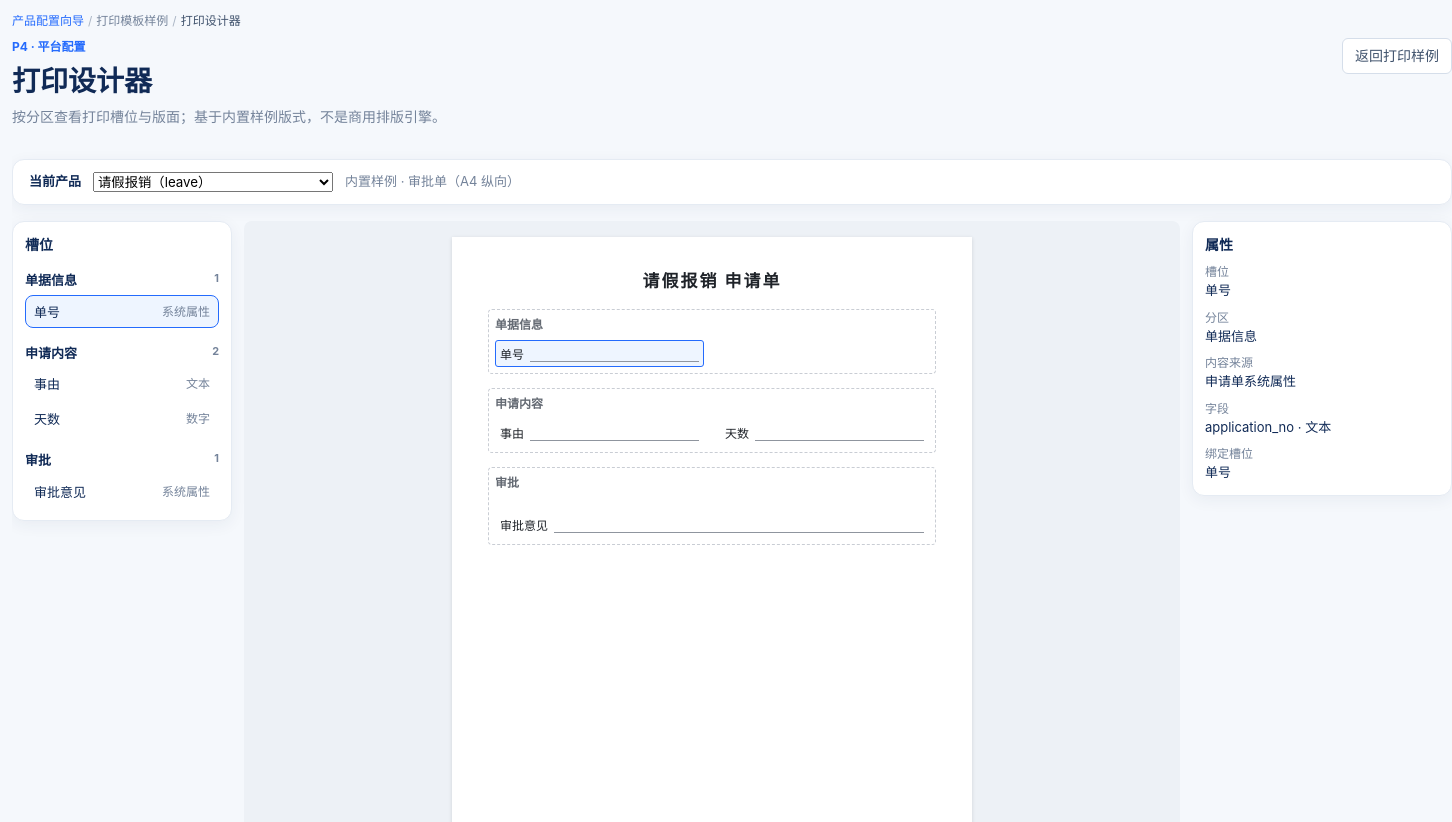
Test: print designer shell (CF-RD1) › shows the slot list, board zones and properties for the selected slot
Check: the number of buttons with class "slot-item" is 4, box [25,294,219,328]; [25,367,219,400]; [25,402,219,435]; [25,474,219,508]
Check: the element with test id "designer-props-detail" shows "单号", box [1205,282,1231,298]
Click the button with test id "designer-board-form.days" at [824, 432], box [720,418,929,446]
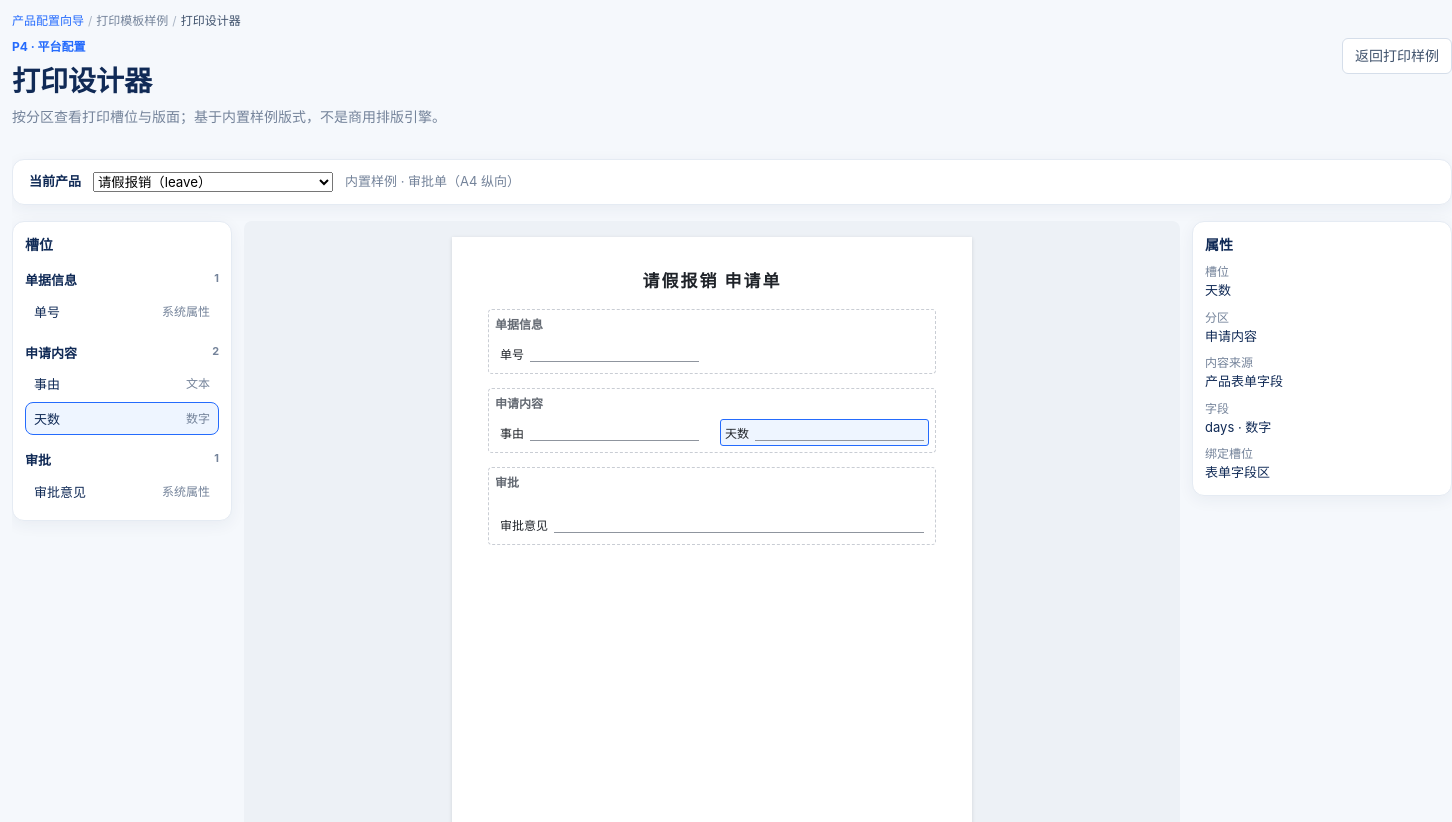
Check: the element with test id "designer-props-detail" shows "天数", box [1205,282,1231,298]
Check: the element with test id "designer-props-detail" shows "申请内容", box [1205,328,1257,344]
Check: the element with test id "designer-props-detail" shows "产品表单字段", box [1205,373,1283,389]
